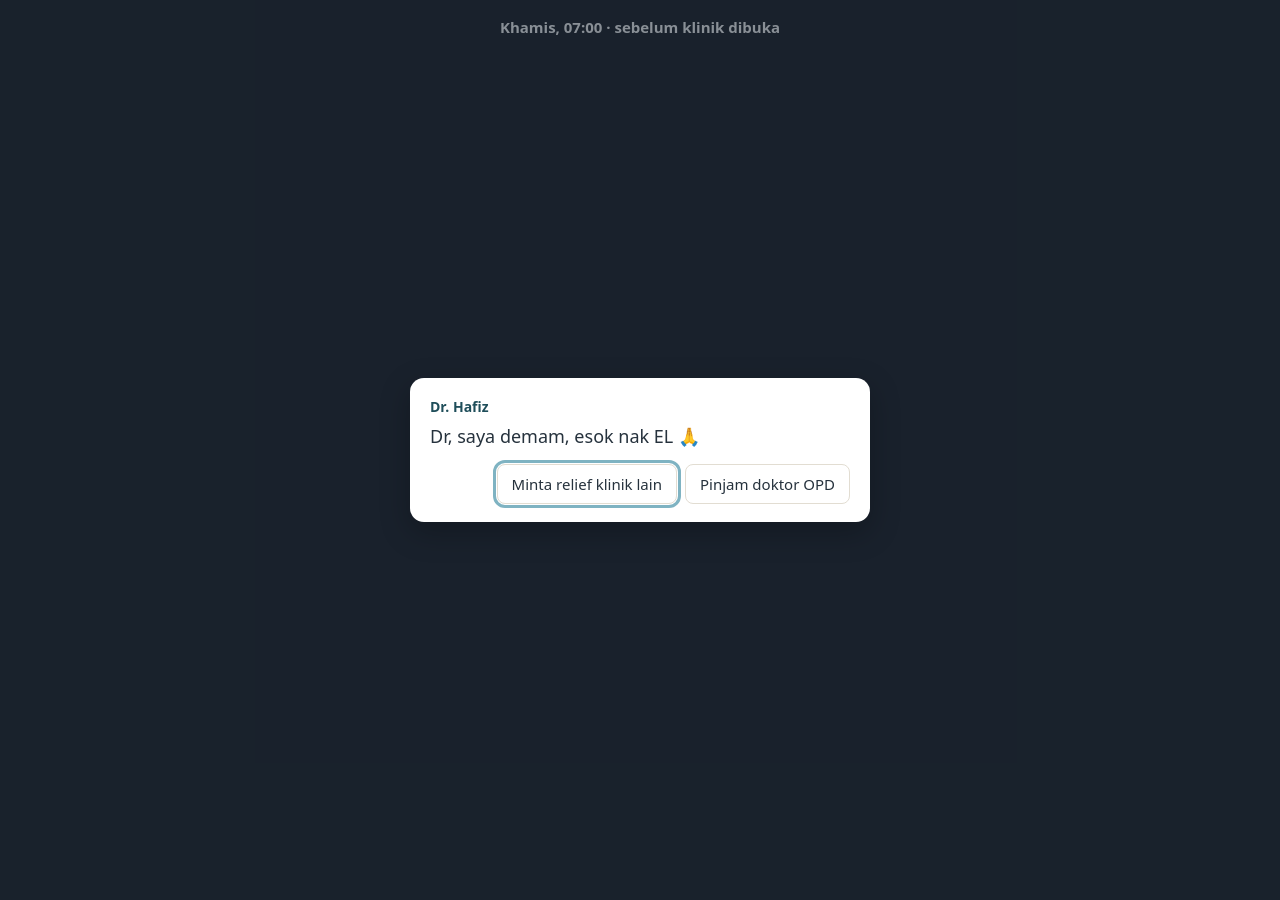
Test: Khamis starts with the EL popup before the clinic opens
The image size is (1280, 900).
Earlier steps of the test are not shown.
Click the button "Pinjam doktor OPD": click(767, 484) [685,464,850,504]
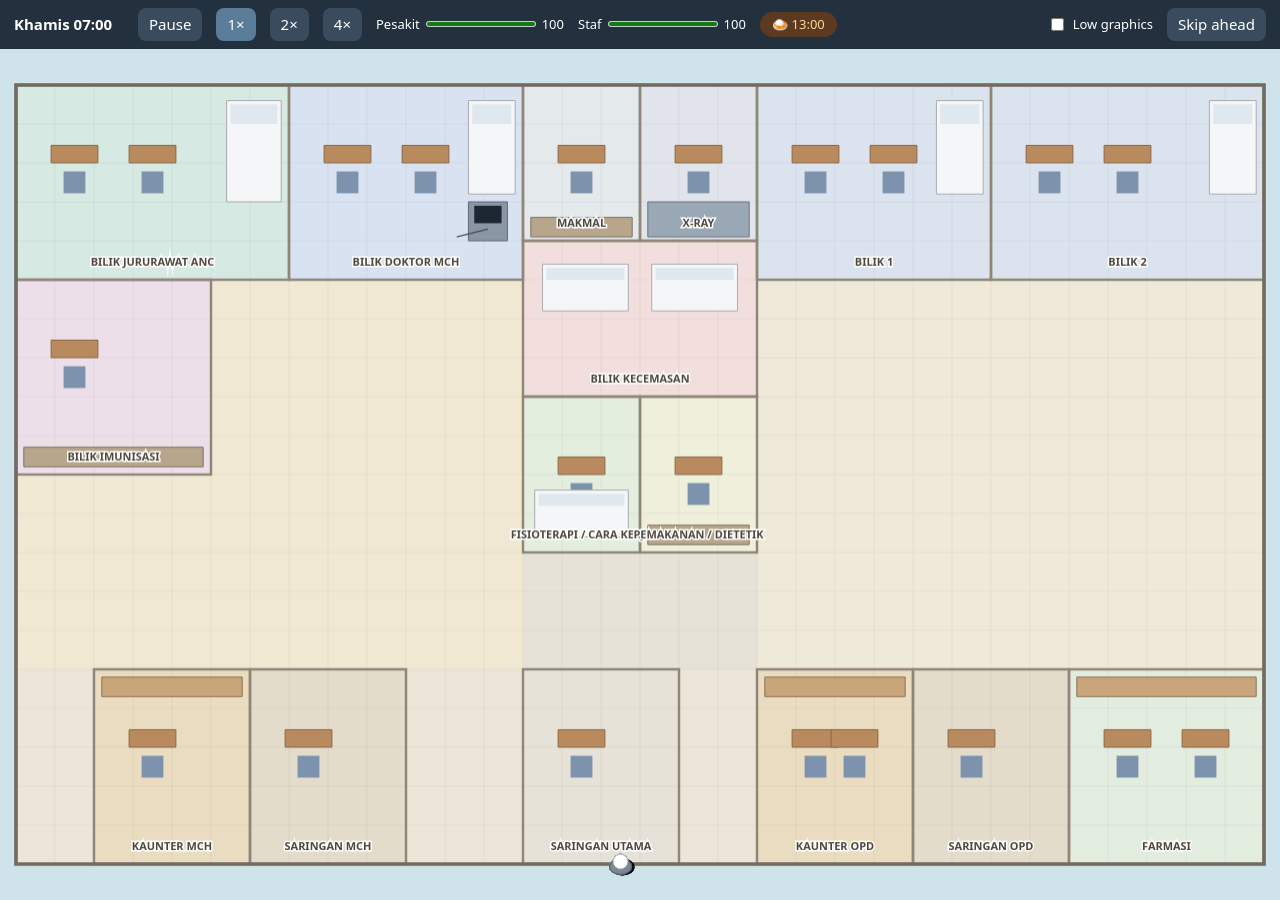
Expected: the text "Khamis 07:00" is shown, [14,13,124,36]
